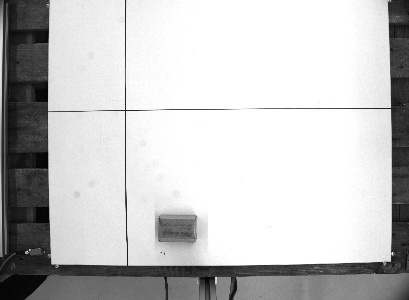b1: (155, 213, 199, 243)
